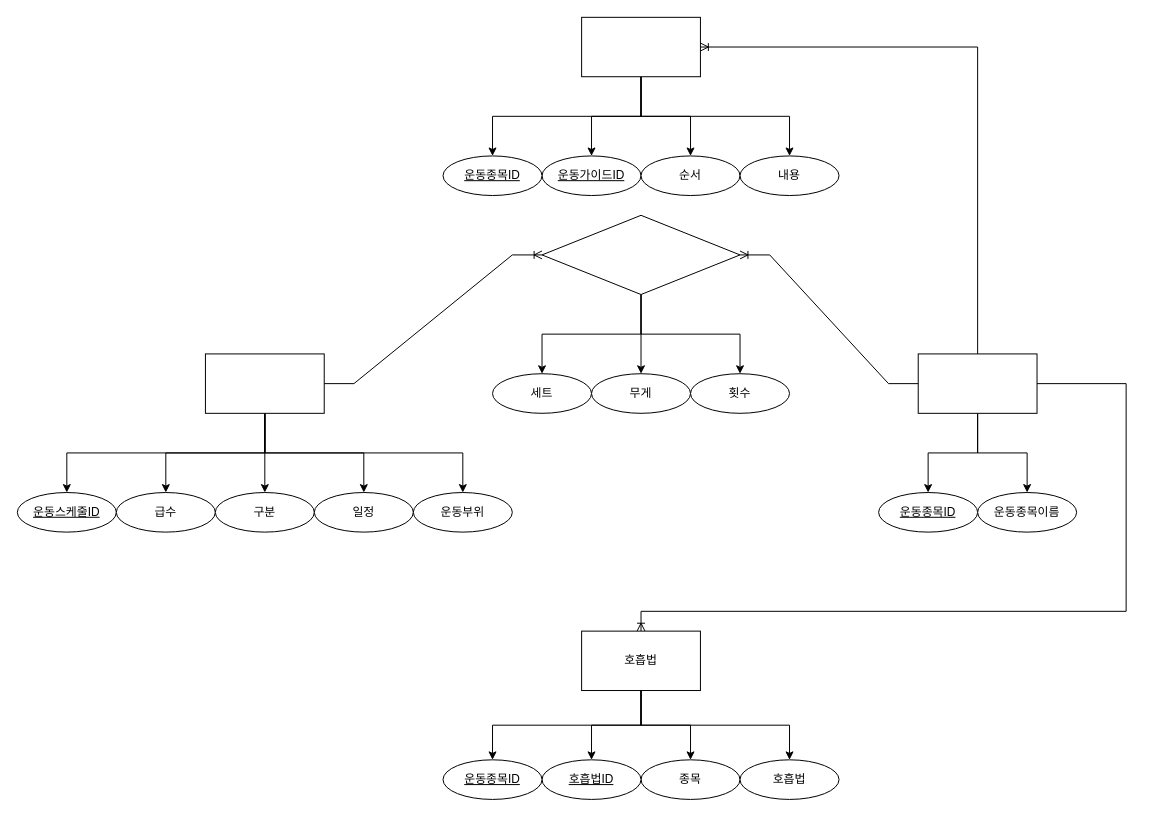
The diagram is 1151 pixels wide and 817 high, and some of its shapes have lost their labels. The shapes that lost their labels are listed below. From the top down, each one's centre as x and y in pixels, then its label:
At pixel 640 46: "운동가이드".
At pixel 640 254: "스케줄 별 운동종목".
At pixel 264 383: "운동스케줄".
At pixel 977 383: "운동종목".
